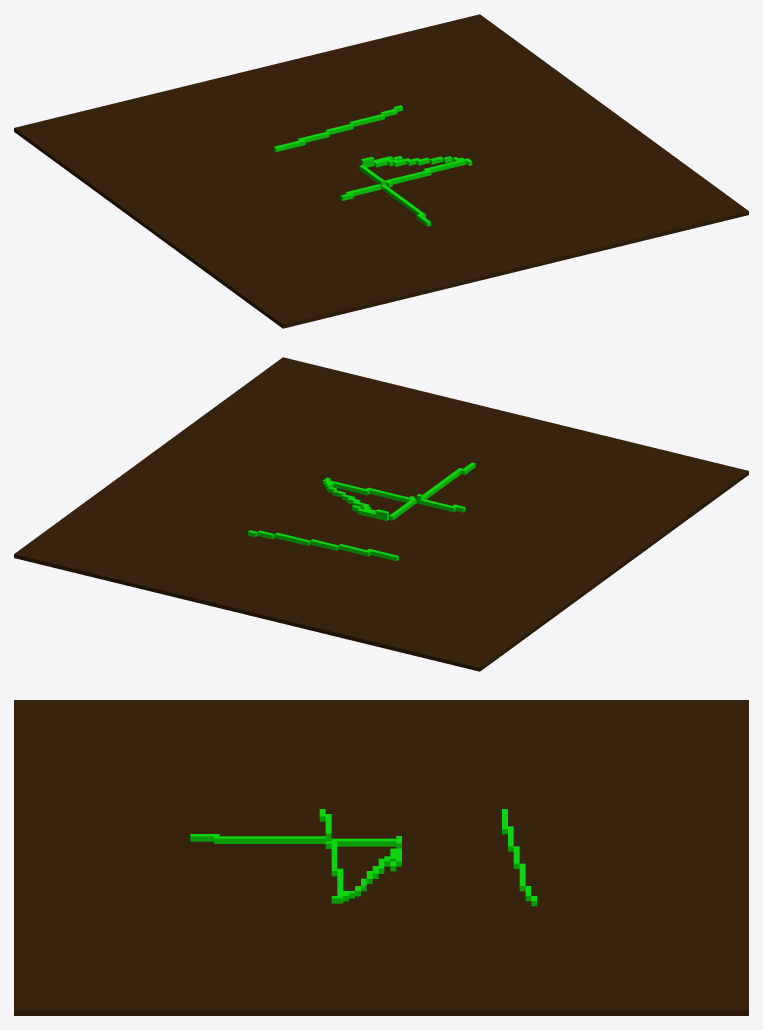
The model's file is Level01-13.obj.
The picture shows the model from 3 angles, top to bottom: view 1: azimuth 30°, elevation 25°; view 2: azimuth 150°, elevation 25°; view 3: azimuth 270°, elevation 25°; orthographic projection. The views are drawn at different scales.
Visible parts, largest first — view 1: Level01-13; view 2: Level01-13; view 3: Level01-13.
Part boxes in pixels (x1,y1,x2,y2): Level01-13: (14,14,748,328); Level01-13: (14,357,748,671); Level01-13: (14,700,748,1015).
Size of the model in its own units: 125 by 3 by 125.
1 material, 1 textured.
